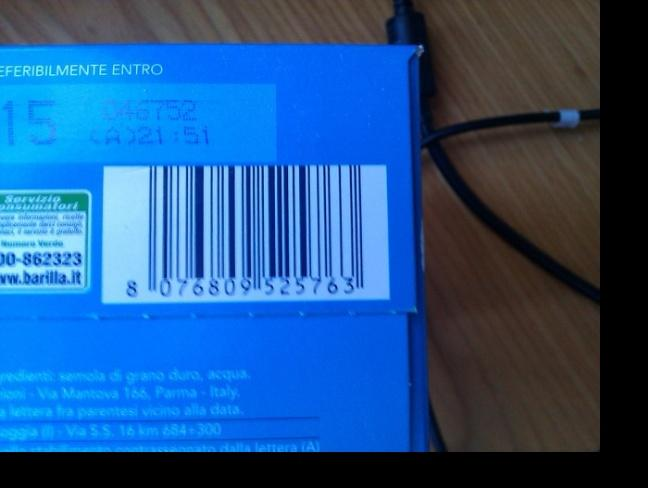Barcode: (117, 165, 371, 301)
